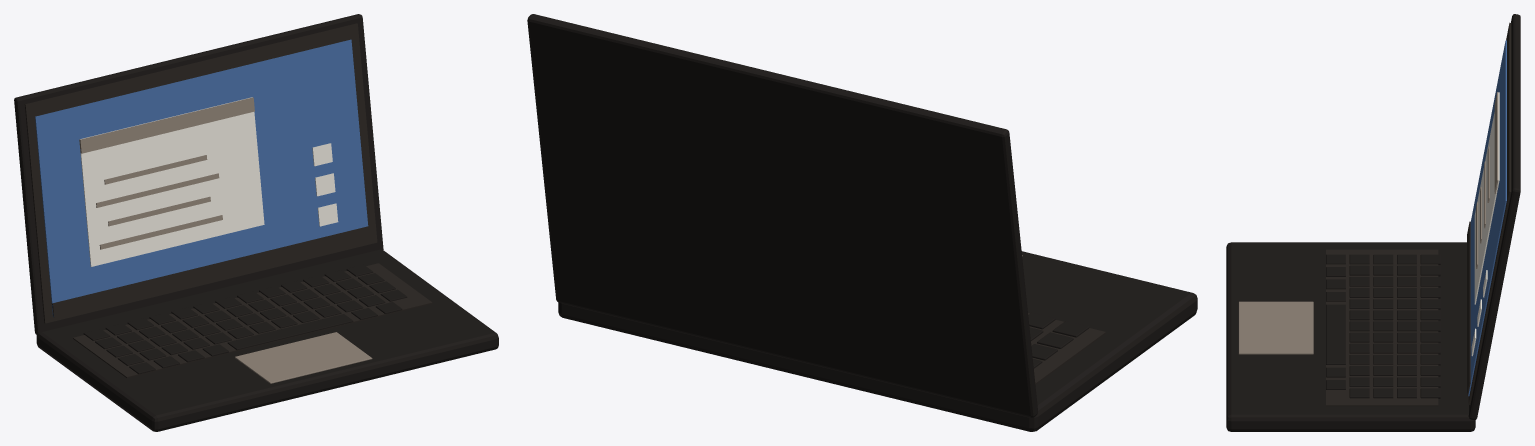
Rendered from hh_cat_laptop.glb.
3 views of the same model, side by side, from view 1: azimuth 30°, elevation 25°; view 2: azimuth 150°, elevation 25°; view 3: azimuth 270°, elevation 25° (orthographic). The views are drawn at different scales.
Visible parts, largest first — view 1: screen, deck, window, bezel, lid, key_well, task_bar, trackpad, window_bar, key.056, window_line, window_line.002 (+2 smaller); view 2: lid, deck, key_well; view 3: deck, key_well, trackpad, lid, screen, window, bezel, key.056, task_bar, window_bar.
Boxes of the visible parts, <box> form: screen: <box>35,39,368,316</box>; deck: <box>36,249,498,431</box>; window: <box>80,97,264,266</box>; bezel: <box>24,23,377,323</box>; lid: <box>14,14,383,334</box>; key_well: <box>73,263,432,377</box>; task_bar: <box>51,226,369,317</box>; trackpad: <box>235,332,372,383</box>; window_bar: <box>79,97,254,153</box>; key.056: <box>227,315,347,350</box>; window_line: <box>99,215,222,249</box>; window_line.002: <box>96,173,219,207</box>; lid: <box>527,14,1037,417</box>; deck: <box>558,251,1197,431</box>; key_well: <box>1028,313,1105,384</box>; deck: <box>1226,242,1475,431</box>; key_well: <box>1326,249,1438,406</box>; trackpad: <box>1238,301,1313,354</box>; lid: <box>1468,14,1520,419</box>; screen: <box>1468,40,1506,396</box>; window: <box>1474,92,1499,304</box>; bezel: <box>1468,22,1511,404</box>; key.056: <box>1326,304,1345,361</box>; task_bar: <box>1467,221,1470,395</box>; window_bar: <box>1494,92,1498,193</box>.
Bounding box in the file's own units: 0.34 × 0.22 × 0.24.
